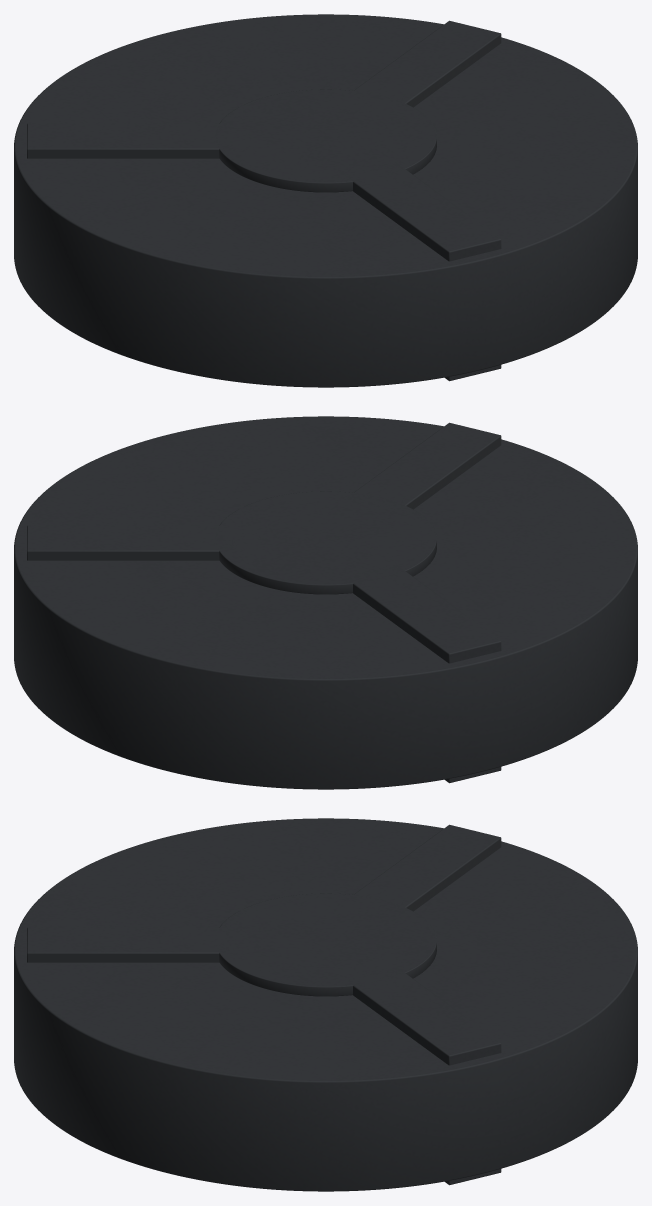
The model's file is right_wheel_servo_black.obj.
The picture shows the model from 3 angles, top to bottom: view 1: azimuth 30°, elevation 25°; view 2: azimuth 150°, elevation 25°; view 3: azimuth 270°, elevation 25°; orthographic projection.
Visible parts, largest first — view 1: right_wheel__hub, right_wheel__wheel_hub_cap_1, right_wheel__wheel_spoke_1_0, right_wheel__wheel_spoke_1_1, right_wheel__wheel_spoke_1_2; view 2: right_wheel__hub, right_wheel__wheel_hub_cap_1, right_wheel__wheel_spoke_1_2, right_wheel__wheel_spoke_1_1, right_wheel__wheel_spoke_1_0; view 3: right_wheel__hub, right_wheel__wheel_hub_cap_1, right_wheel__wheel_spoke_1_0, right_wheel__wheel_spoke_1_2, right_wheel__wheel_spoke_1_1.
Boxes of the visible parts, x1=… form: right_wheel__hub: x1=14, y1=14, x2=637, y2=387; right_wheel__wheel_hub_cap_1: x1=215, y1=89, x2=436, y2=192; right_wheel__wheel_spoke_1_0: x1=345, y1=162, x2=501, y2=261; right_wheel__wheel_spoke_1_1: x1=27, y1=123, x2=219, y2=158; right_wheel__wheel_spoke_1_2: x1=354, y1=20, x2=501, y2=107; right_wheel__hub: x1=14, y1=416, x2=637, y2=789; right_wheel__wheel_hub_cap_1: x1=215, y1=491, x2=436, y2=594; right_wheel__wheel_spoke_1_2: x1=27, y1=525, x2=236, y2=560; right_wheel__wheel_spoke_1_1: x1=347, y1=565, x2=501, y2=663; right_wheel__wheel_spoke_1_0: x1=346, y1=422, x2=501, y2=511; right_wheel__hub: x1=14, y1=818, x2=637, y2=1191; right_wheel__wheel_hub_cap_1: x1=217, y1=893, x2=436, y2=996; right_wheel__wheel_spoke_1_0: x1=27, y1=927, x2=236, y2=962; right_wheel__wheel_spoke_1_2: x1=345, y1=966, x2=501, y2=1065; right_wheel__wheel_spoke_1_1: x1=354, y1=824, x2=501, y2=911.
Bounding box in the file's own units: 0.1743 × 0.04 × 0.1743.
1 material, 1 textured.
